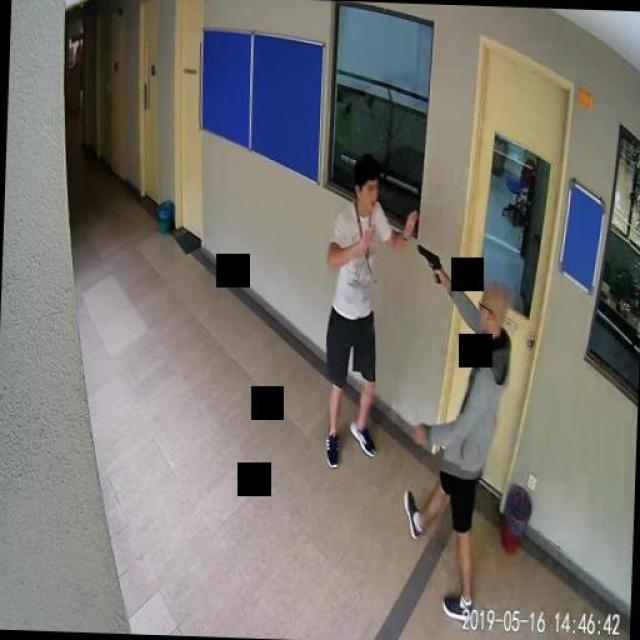gun: (415, 242, 440, 282)
